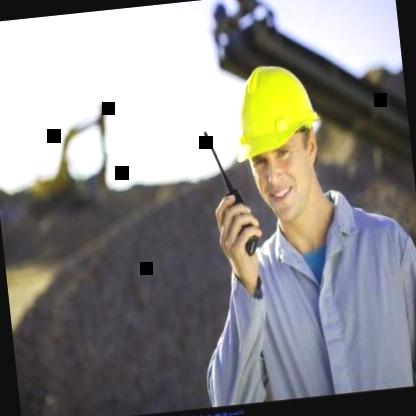helmet: (216, 35, 338, 246)
